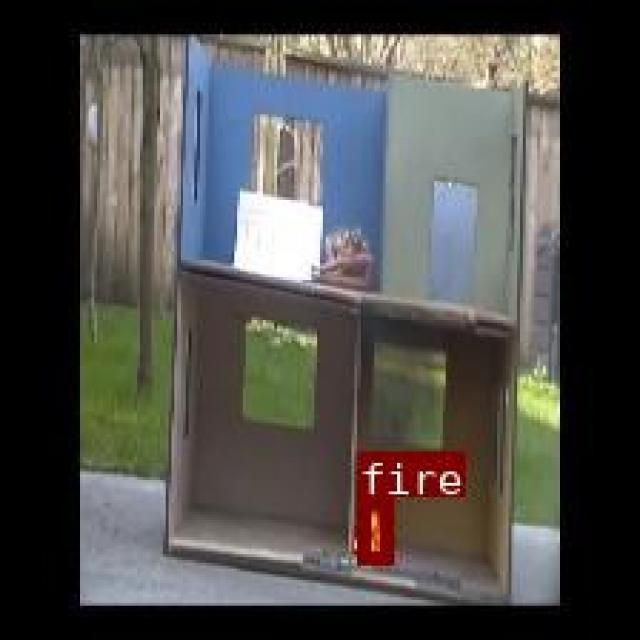fire: (356, 495, 391, 562)
